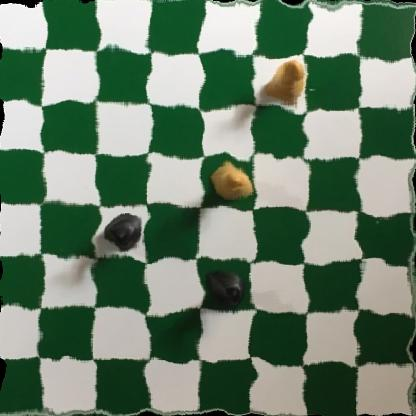black-bishop: (103, 212, 148, 261), (201, 265, 246, 312)
white-bishop: (210, 159, 253, 205), (265, 59, 305, 105)
